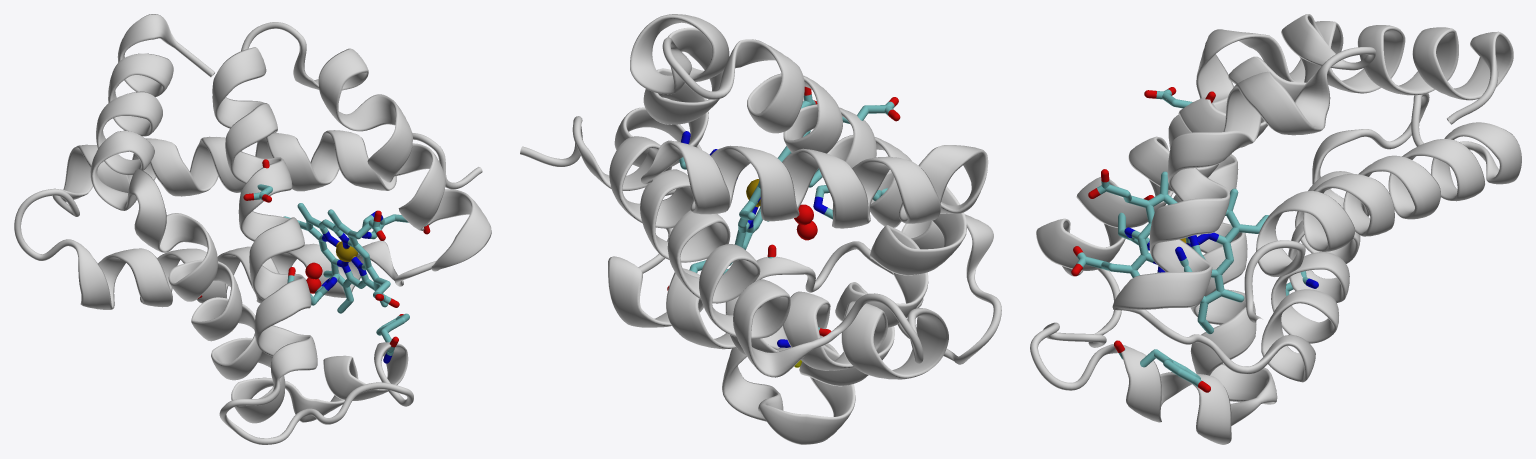
Rendered from frame07.gltf.
3 views of the same model, side by side, from view 1: azimuth 30°, elevation 25°; view 2: azimuth 150°, elevation 25°; view 3: azimuth 270°, elevation 25° (orthographic). The views are drawn at different scales.
Parts seen in each view (by area): view 1: vmd_mol7_rep3, vmd_mol7_rep2, vmd_mol7_rep1; view 2: vmd_mol7_rep3, vmd_mol7_rep1, vmd_mol7_rep2, vmd_mol7_rep4; view 3: vmd_mol7_rep3, vmd_mol7_rep2, vmd_mol7_rep1.
Part boxes in pixels (x1=…): vmd_mol7_rep3: x1=14, y1=14, x2=491, y2=444; vmd_mol7_rep2: x1=283, y1=203, x2=399, y2=313; vmd_mol7_rep1: x1=198, y1=159, x2=430, y2=363; vmd_mol7_rep3: x1=520, y1=14, x2=1001, y2=444; vmd_mol7_rep1: x1=667, y1=97, x2=900, y2=367; vmd_mol7_rep2: x1=729, y1=86, x2=822, y2=265; vmd_mol7_rep4: x1=794, y1=204, x2=817, y2=240; vmd_mol7_rep3: x1=1030, y1=14, x2=1521, y2=444; vmd_mol7_rep2: x1=1071, y1=169, x2=1268, y2=334; vmd_mol7_rep1: x1=1114, y1=87, x2=1318, y2=392.
Bounding box in the file's own units: 1.41 × 1.19 × 1.3.
